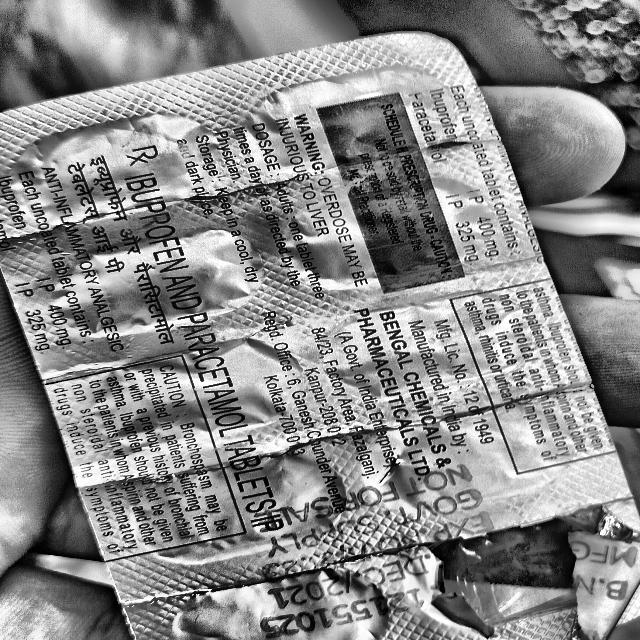IBUPROFEN AND PARACETAMOL TABLETS: (103, 153, 306, 525)
